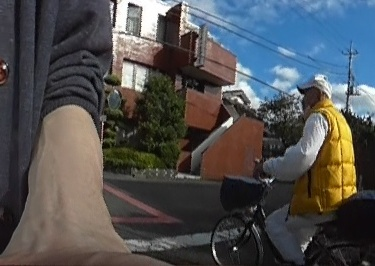person: (266, 76, 355, 262)
